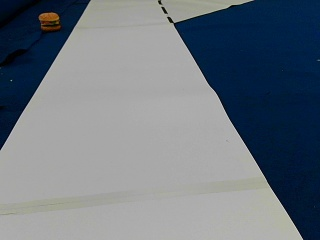burger: (38, 10, 61, 31)
